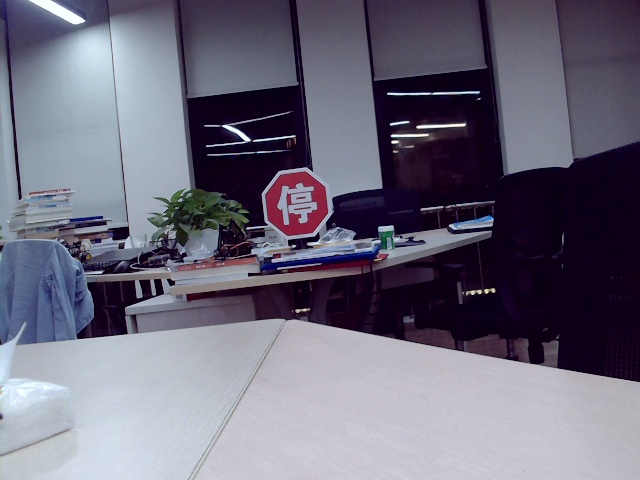stop: (271, 179, 316, 221)
